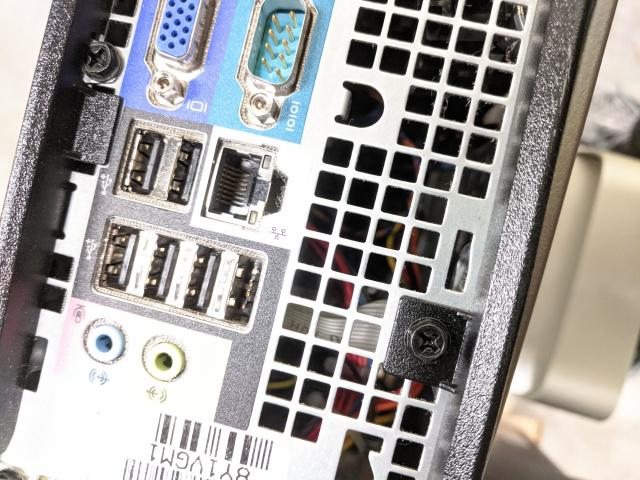CRS: (407, 318, 450, 365), (75, 38, 117, 81)
